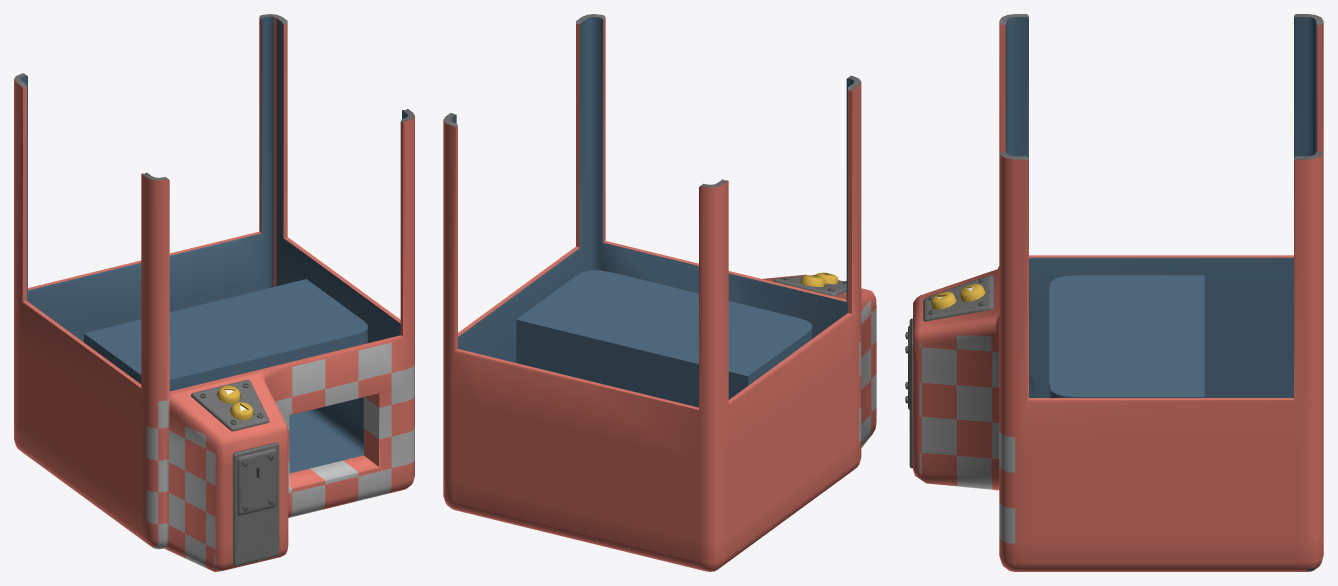
File: machine_body.FBX
3 views of the same model, side by side, from view 1: azimuth 30°, elevation 25°; view 2: azimuth 150°, elevation 25°; view 3: azimuth 270°, elevation 25° (orthographic). The views are drawn at different scales.
Parts seen in each view (by area): view 1: machine; view 2: machine; view 3: machine.
Part boxes in pixels (x1=…): machine: x1=14, y1=14, x2=414, y2=571; machine: x1=443, y1=14, x2=876, y2=571; machine: x1=905, y1=14, x2=1323, y2=571.
Size of the model in its own units: 551 by 737 by 669.
Materials: 1 (1 with a texture image).
